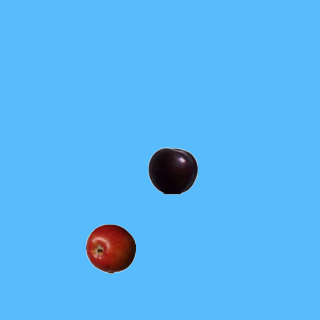Apple Braeburn: (85, 223, 135, 273)
Cherry Wax Black: (147, 145, 197, 195)
